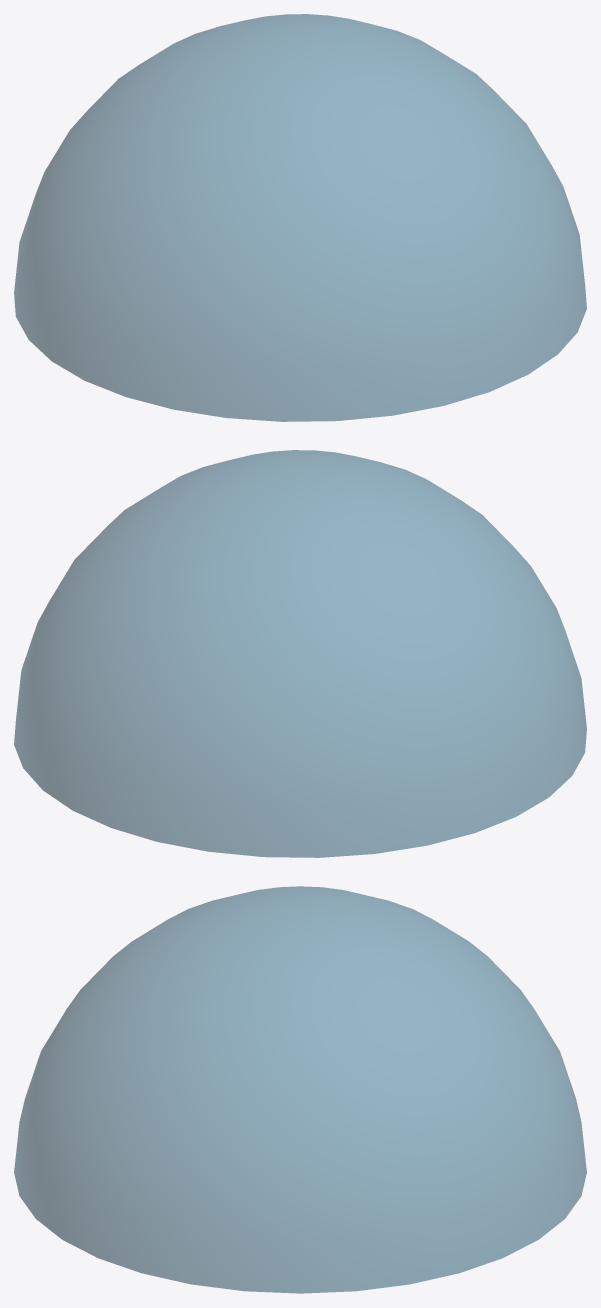
File: glassdome.glb
3 renders of one model, top to bottom at view 1: azimuth 30°, elevation 25°; view 2: azimuth 150°, elevation 25°; view 3: azimuth 270°, elevation 25°, orthographic.
Parts seen in each view (by area): view 1: Sphere; view 2: Sphere; view 3: Sphere.
Boxes of the visible parts, x1=… form: Sphere: x1=14, y1=14, x2=586, y2=421; Sphere: x1=14, y1=450, x2=586, y2=857; Sphere: x1=14, y1=886, x2=586, y2=1293.
Bounding box in the file's own units: 2 × 1 × 2.
Materials: 1 (1 with a texture image).
